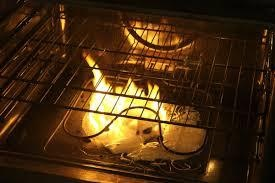fire: (81, 53, 172, 146)
